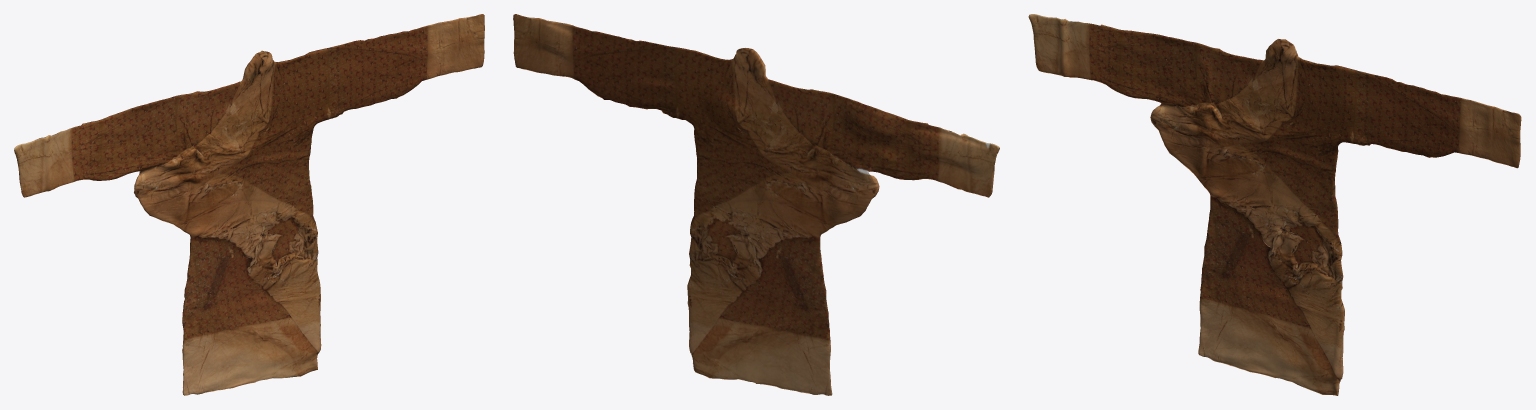
3 views of the same model, side by side, from view 1: azimuth 30°, elevation 25°; view 2: azimuth 150°, elevation 25°; view 3: azimuth 330°, elevation 25° (orthographic). The views are drawn at different scales.
Parts seen in each view (by area): view 1: TEMPORARY_IMPORT_NAMESPACE_棉衣:MeshSh; view 2: TEMPORARY_IMPORT_NAMESPACE_棉衣:MeshSh; view 3: TEMPORARY_IMPORT_NAMESPACE_棉衣:MeshSh.
Part boxes in pixels (x1,y1,x2,y2): TEMPORARY_IMPORT_NAMESPACE_棉衣:MeshSh: (14, 14, 484, 395); TEMPORARY_IMPORT_NAMESPACE_棉衣:MeshSh: (513, 14, 999, 395); TEMPORARY_IMPORT_NAMESPACE_棉衣:MeshSh: (1028, 14, 1521, 395).
Size of the model in its own units: 0.0176 by 0.0119 by 0.00047.
1 material, 1 textured.
